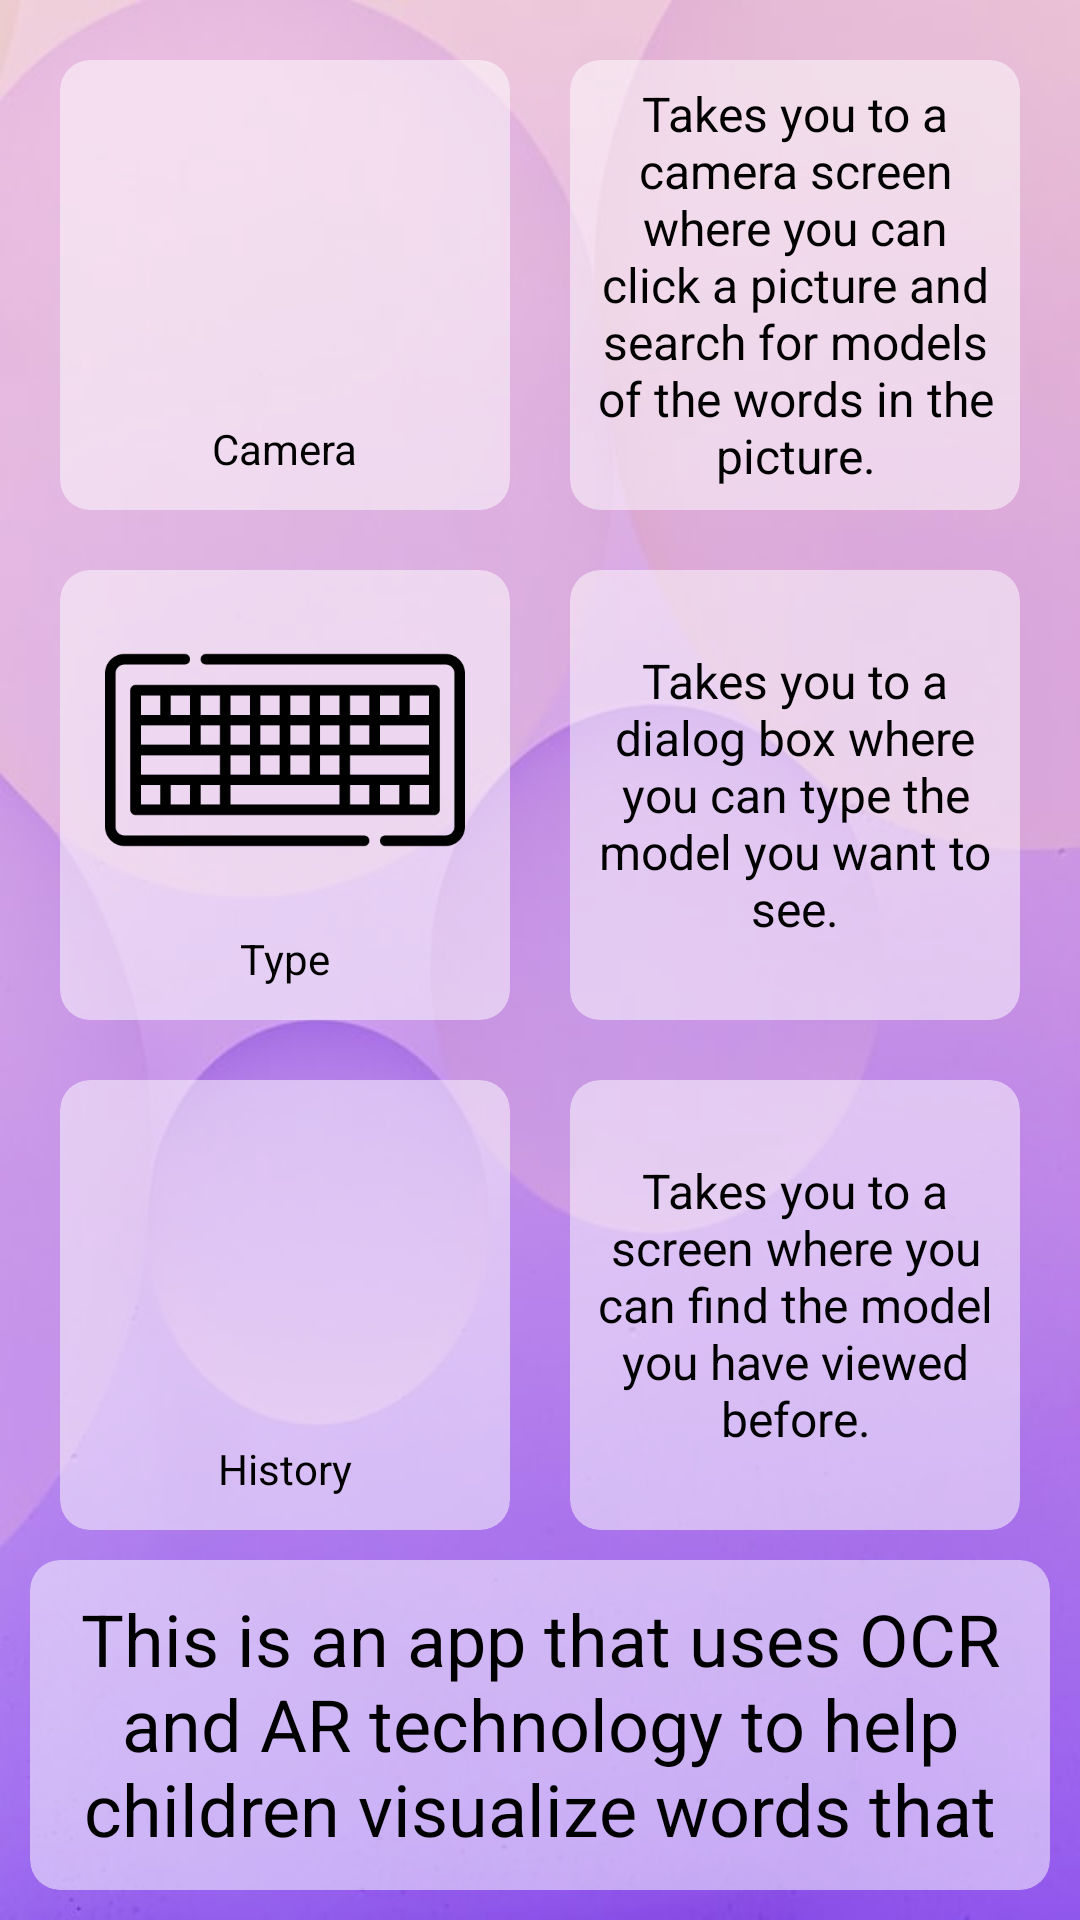

Point at icon controls on the screen. Image size 1080 × 1920, points as (x,y).
keyboard: (285,750)
